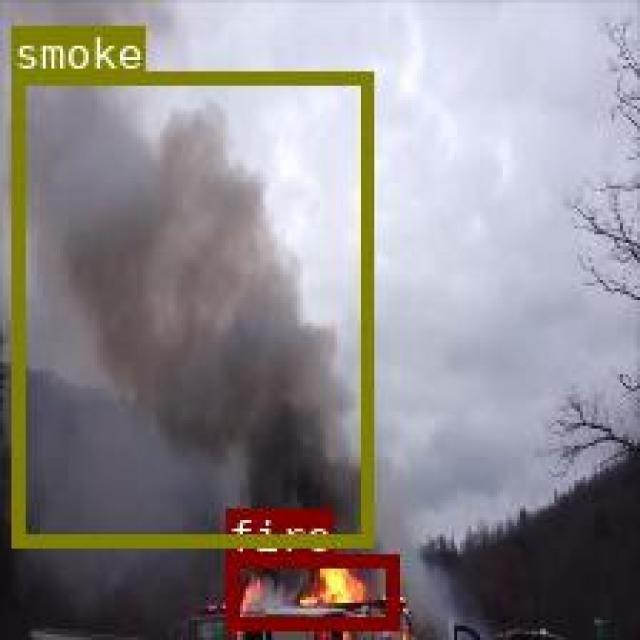fire: (225, 553, 395, 628)
smoke: (10, 71, 371, 545)
